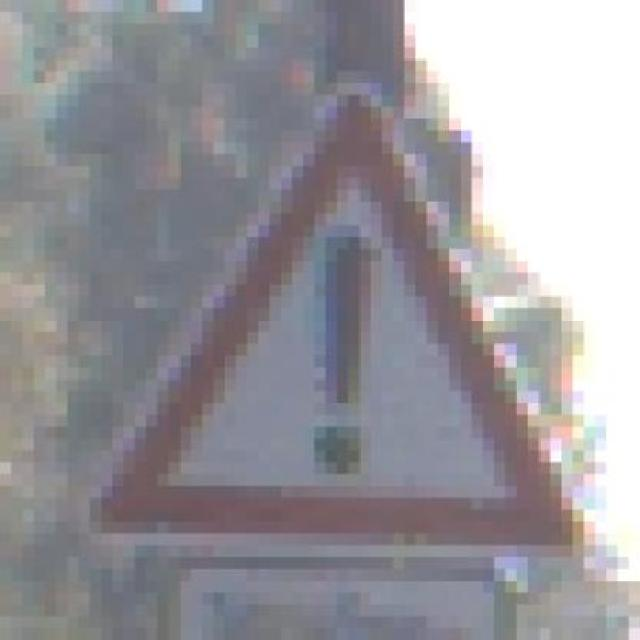Attention Please-: (90, 47, 596, 593)
